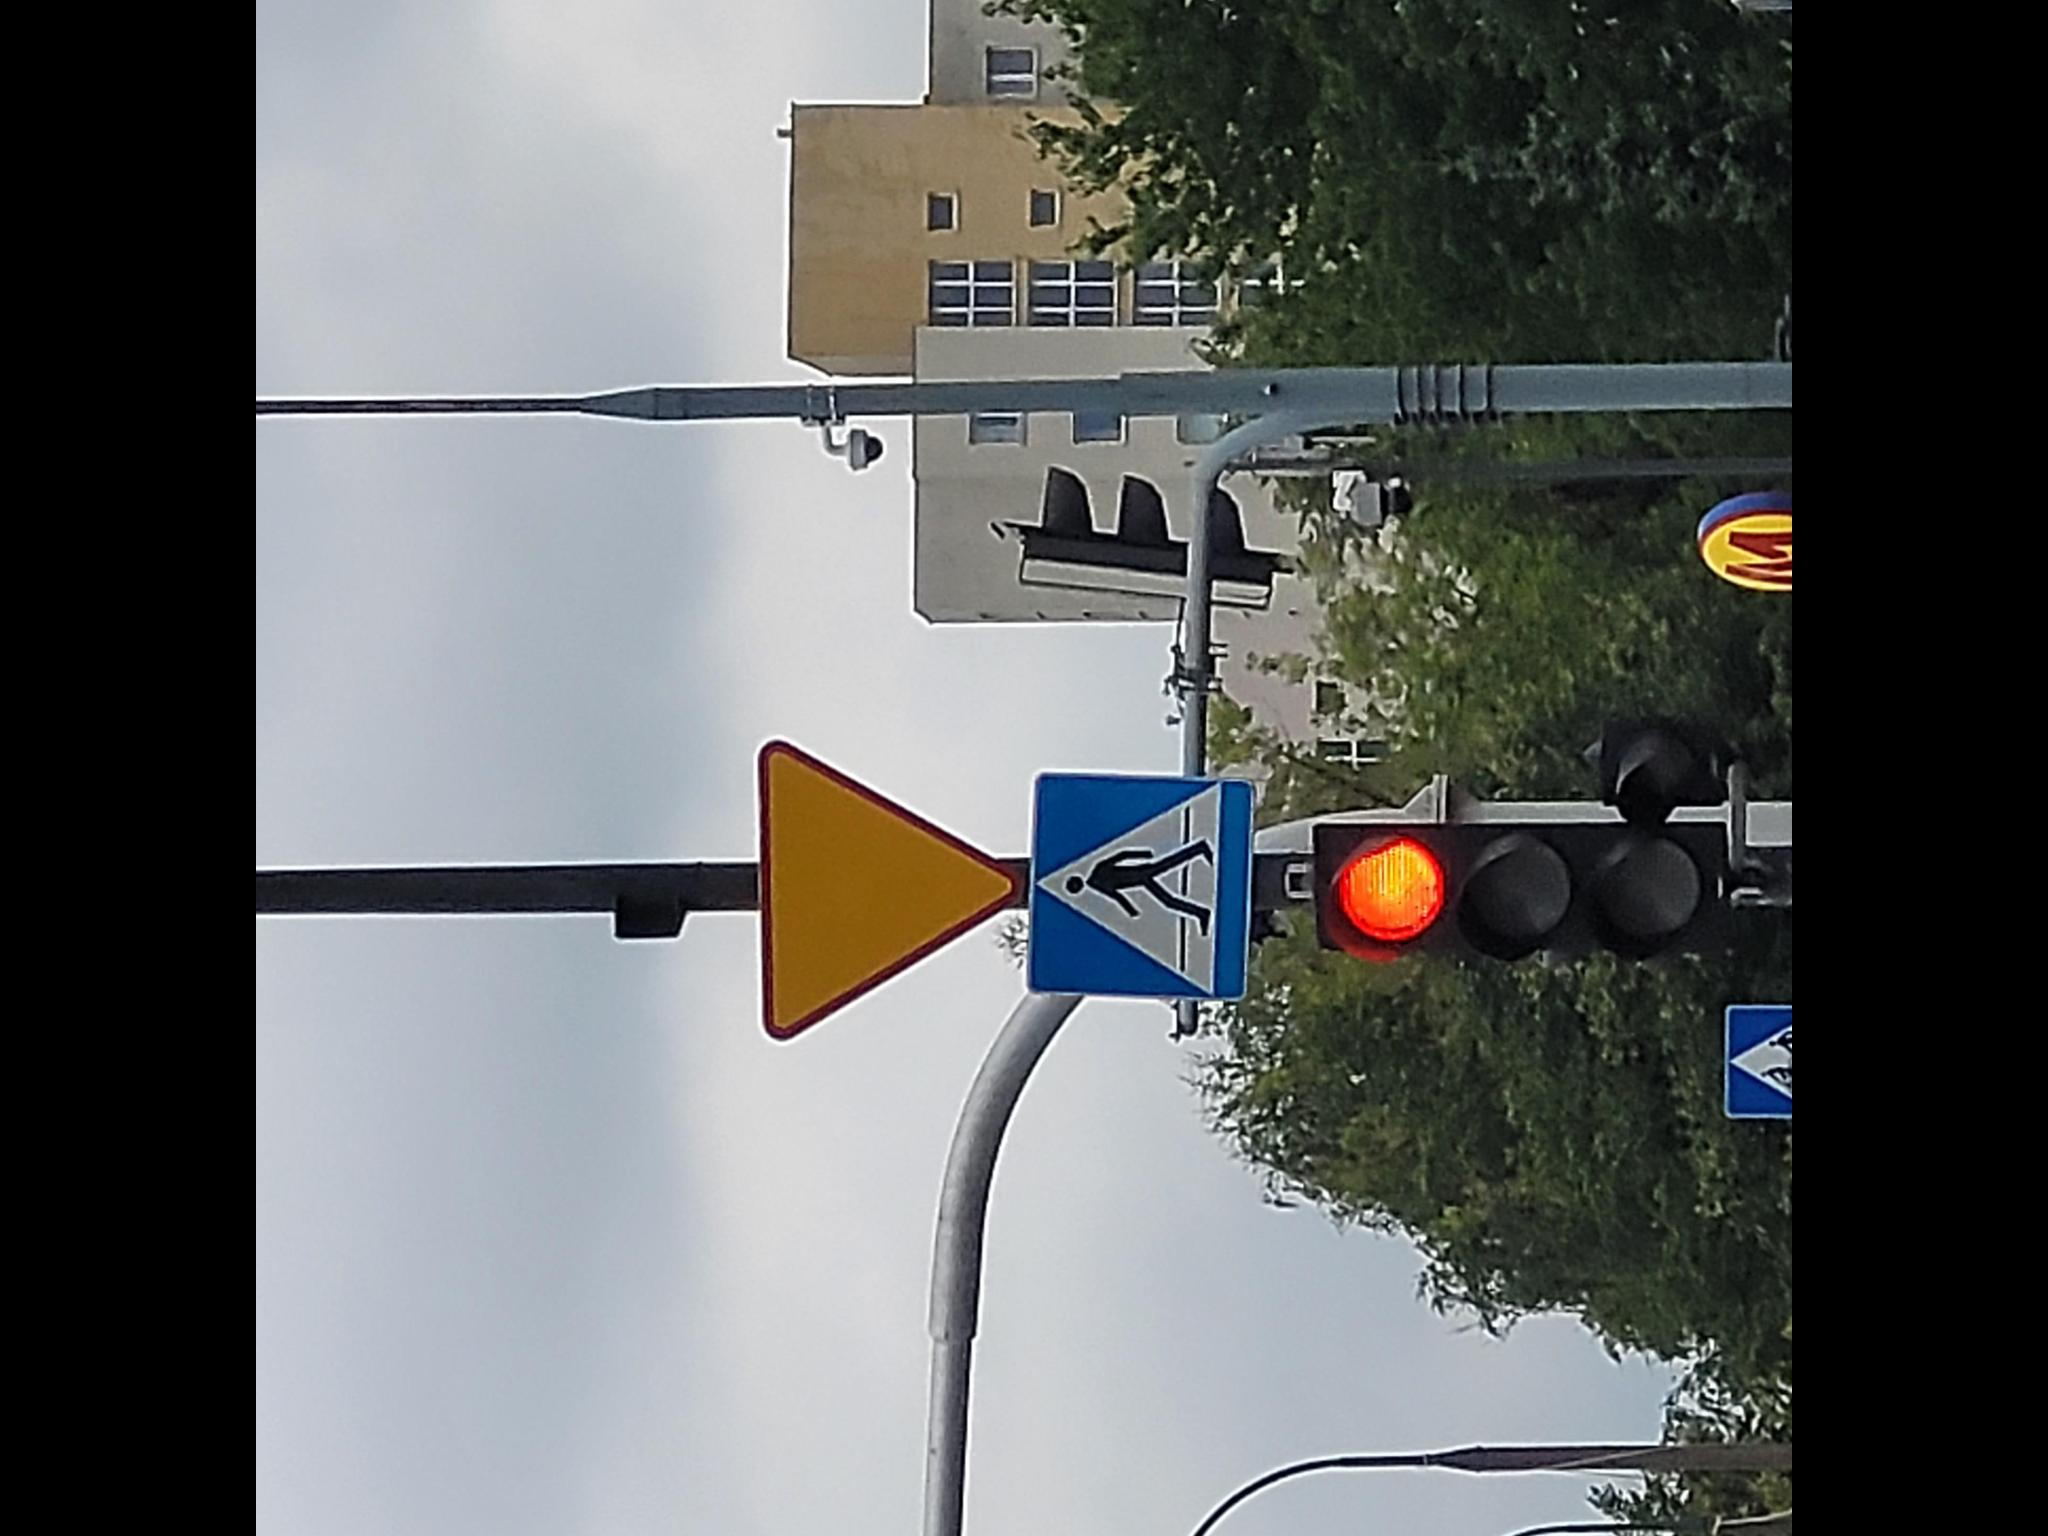information: (1035, 779, 1251, 992), (1729, 1005, 1792, 1113)
warning: (756, 737, 1024, 1042)
